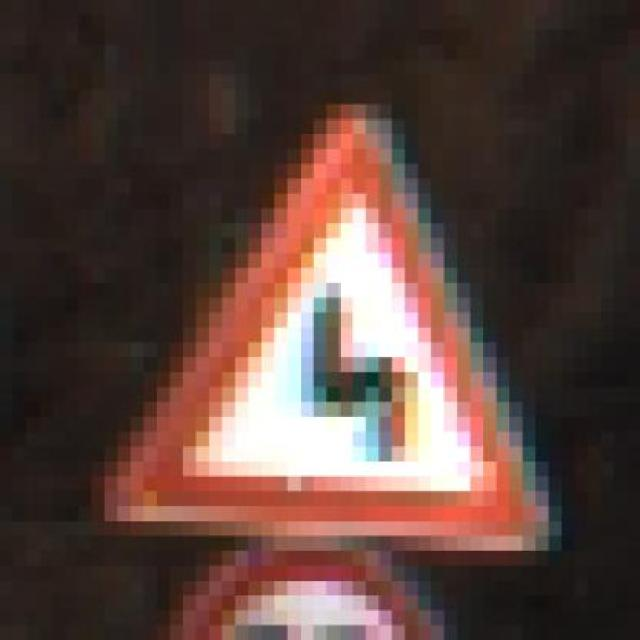Left Zig Zag Traffic: (78, 74, 588, 566)
